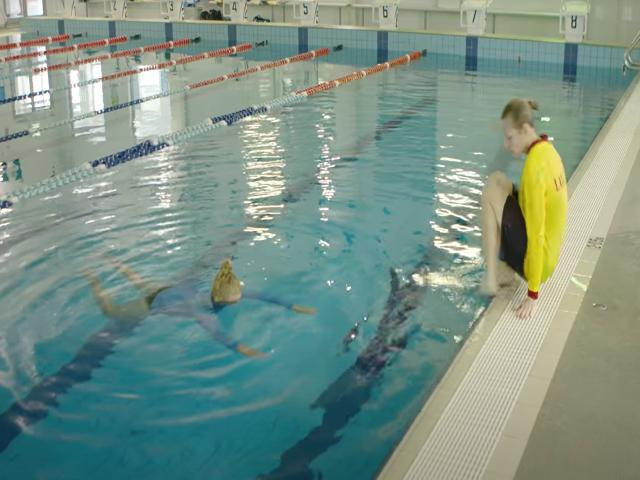drowning: (84, 224, 314, 366)
out of water: (475, 77, 565, 317)
